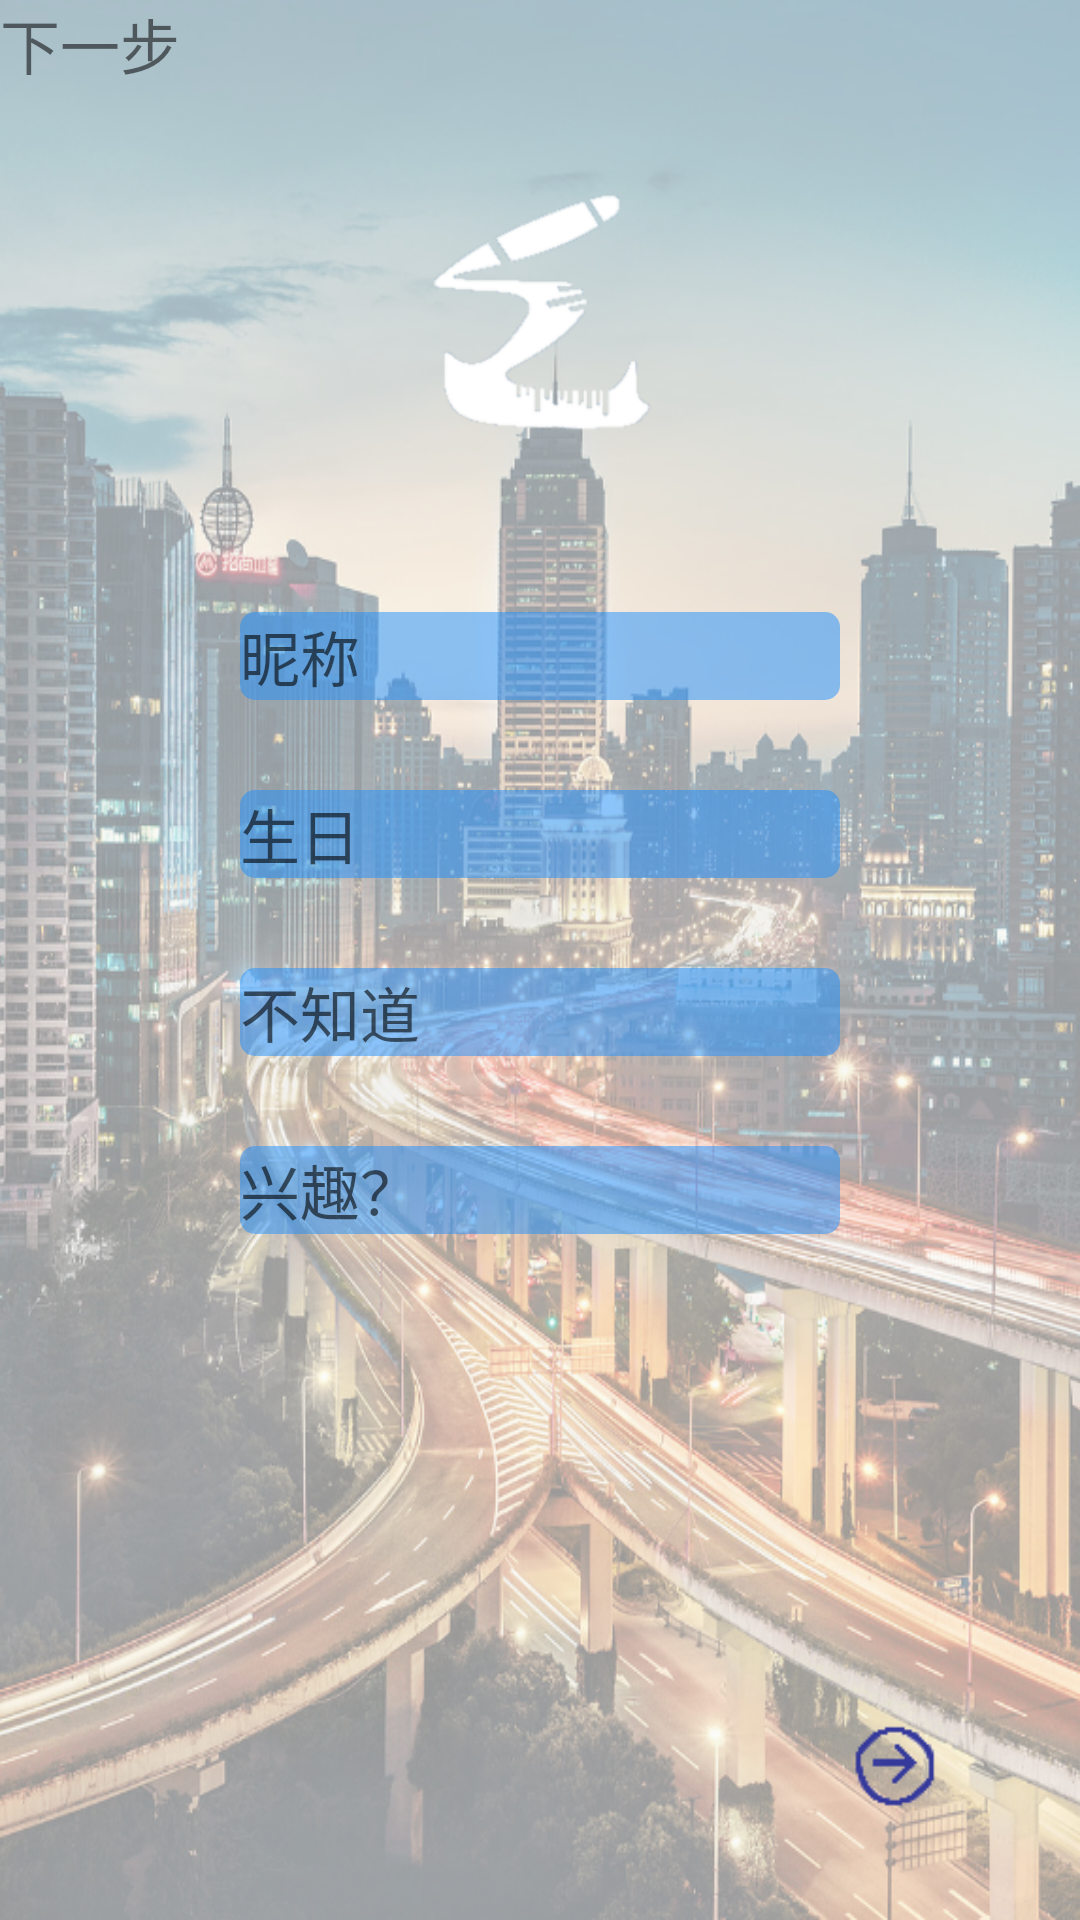

Icon click points for this 1080 x 1920 phone screenshot, format (x,y):
next: (896,1765)
